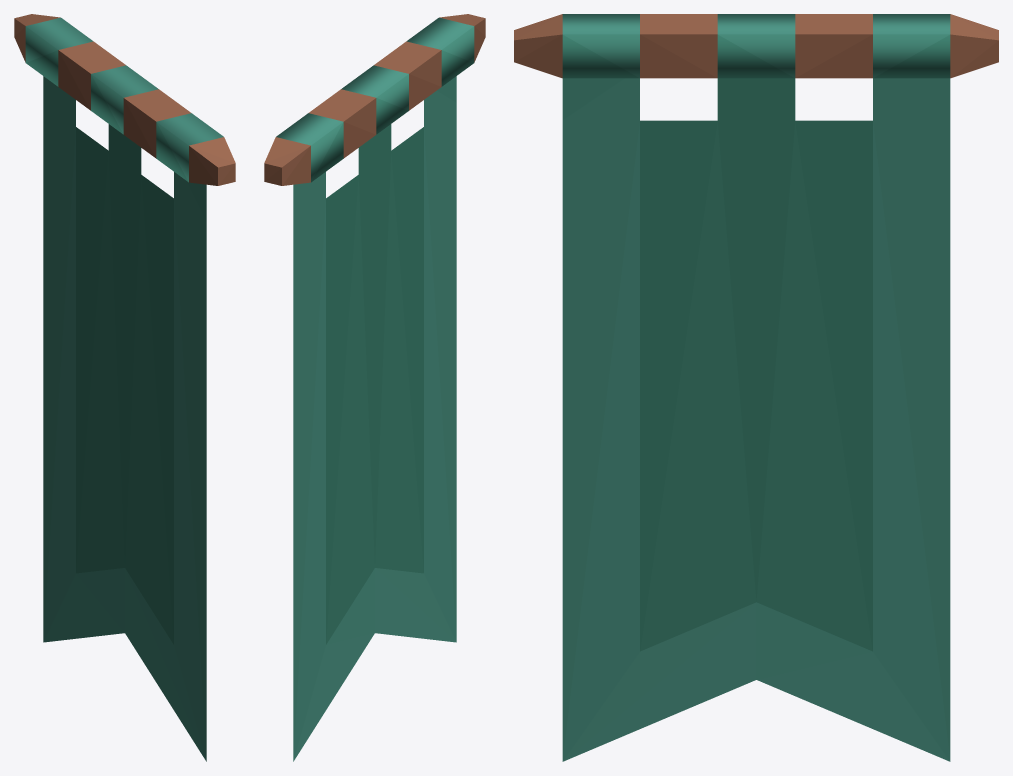
File: fantasytown_banner_green.glb
The picture shows the model from 3 angles, left to right: view 1: azimuth 30°, elevation 25°; view 2: azimuth 150°, elevation 25°; view 3: azimuth 270°, elevation 25°; orthographic projection. The views are drawn at different scales.
Visible parts, largest first — view 1: fantasytown_banner_green; view 2: fantasytown_banner_green; view 3: fantasytown_banner_green.
Boxes of the visible parts, left/top/right/bottom form: fantasytown_banner_green: left=14, top=14, right=235, bottom=761; fantasytown_banner_green: left=264, top=14, right=485, bottom=761; fantasytown_banner_green: left=514, top=14, right=998, bottom=761.
Bounding box in the file's own units: 0.05 × 0.8394 × 0.5.
